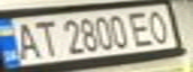0: (109, 11, 133, 50), (93, 14, 115, 52)
2: (60, 16, 81, 55)
8: (78, 15, 100, 53)
A: (6, 19, 42, 61)
E: (124, 9, 157, 47)
O: (142, 7, 175, 44)
T: (30, 18, 60, 57)
